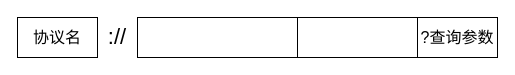
Some shapes in this 515 by 75 pixel diagram are drawn without their labels. The box of each missing label's shape, as (x1, y1, x2, y2) in pixels:
主机信息(host:port): (136, 16, 298, 58)
资源路径(path): (296, 16, 418, 58)
